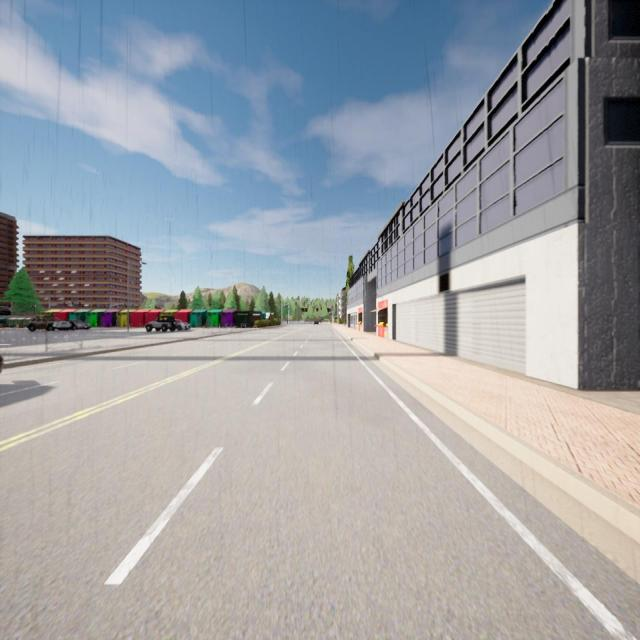Vehicle: (146, 314, 176, 332), (27, 316, 53, 331), (70, 320, 90, 330), (52, 321, 70, 331), (176, 319, 190, 331), (313, 319, 319, 325)
